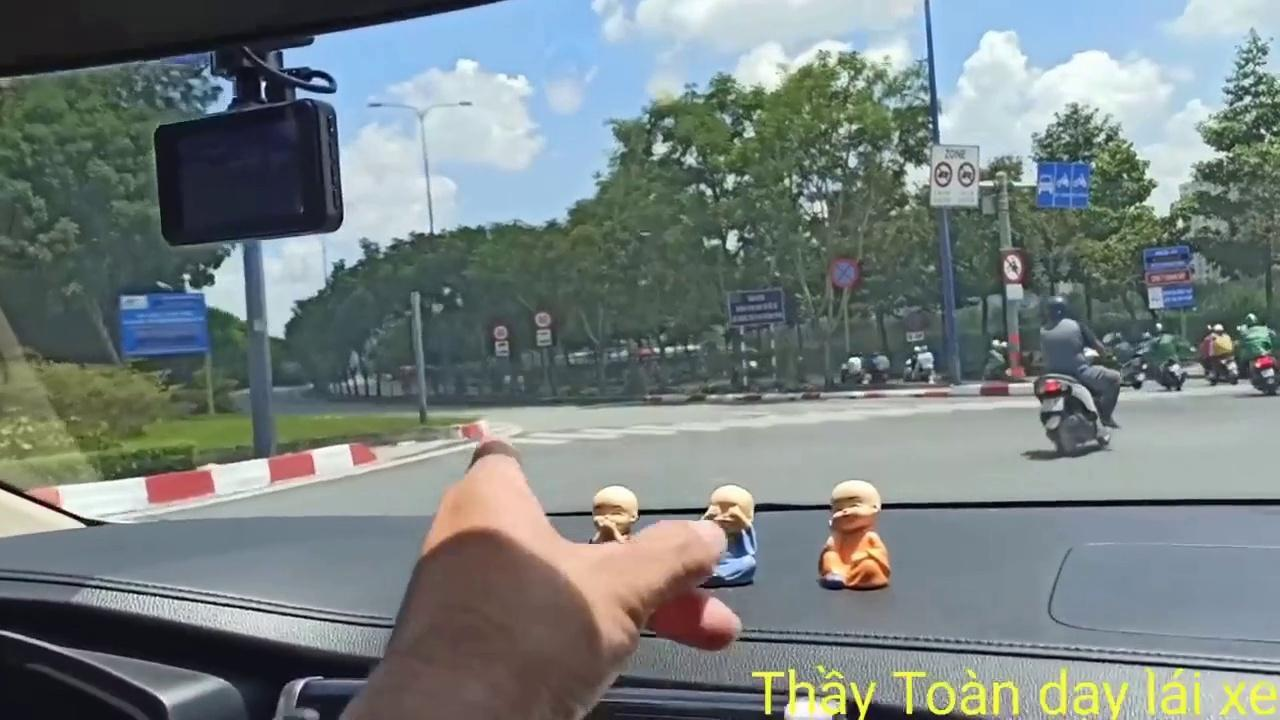Biển phụ: (536, 329, 551, 347), (495, 342, 509, 357)
Cấm cac phương tiện hoạt động trong khung giờ cố định: (928, 143, 982, 210)
Cấm dừng - Cấm đỗ: (828, 257, 859, 291)
Cấm xe máy: (997, 249, 1026, 283)
Khác: (116, 292, 208, 356), (1141, 243, 1196, 310)
Làn đường cho từng xe: (1034, 160, 1090, 210)
